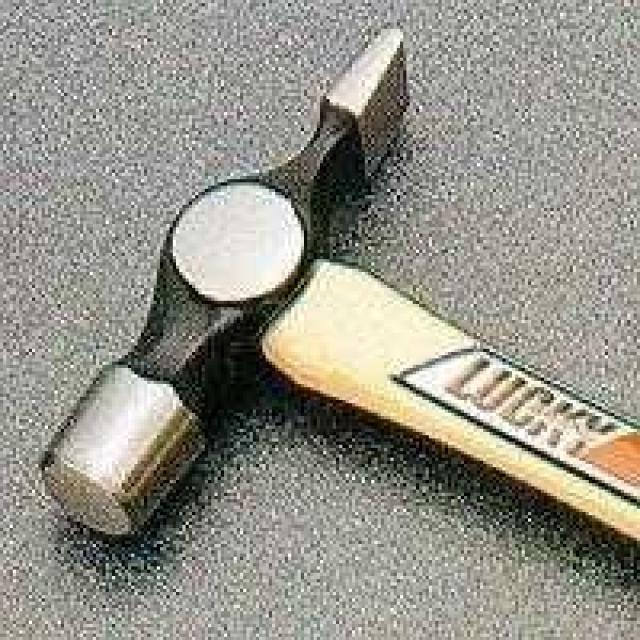hammer: (51, 31, 640, 590)
